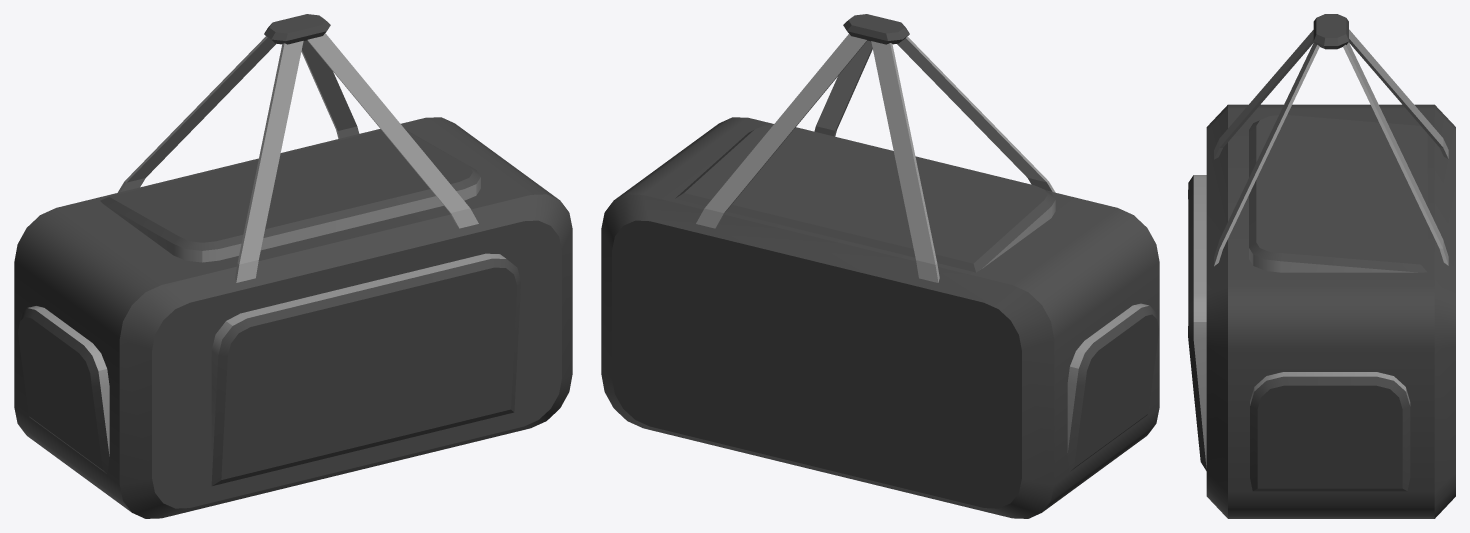
File: Sport Bag Black.fbx
3 views of the same model, side by side, from view 1: azimuth 30°, elevation 25°; view 2: azimuth 150°, elevation 25°; view 3: azimuth 270°, elevation 25° (orthographic).
Visible parts, largest first — view 1: Sport Bag Black; view 2: Sport Bag Black; view 3: Sport Bag Black.
Boxes of the visible parts, box(x1,y1,x2,y2) form: Sport Bag Black: box(14, 14, 572, 518); Sport Bag Black: box(601, 14, 1159, 518); Sport Bag Black: box(1188, 14, 1455, 518).
Bounding box in the file's own units: 74.86 × 60.96 × 36.81.
